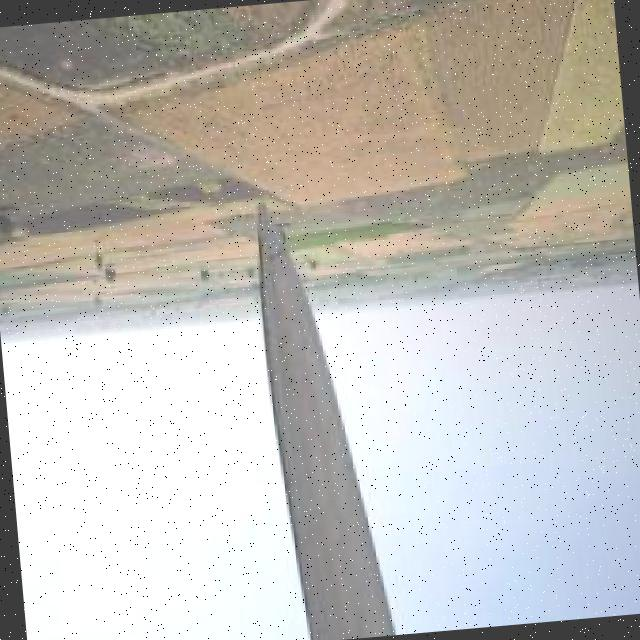Oil LEAKAGE: (260, 237, 309, 609)
Pin Hole: (268, 242, 286, 266)
